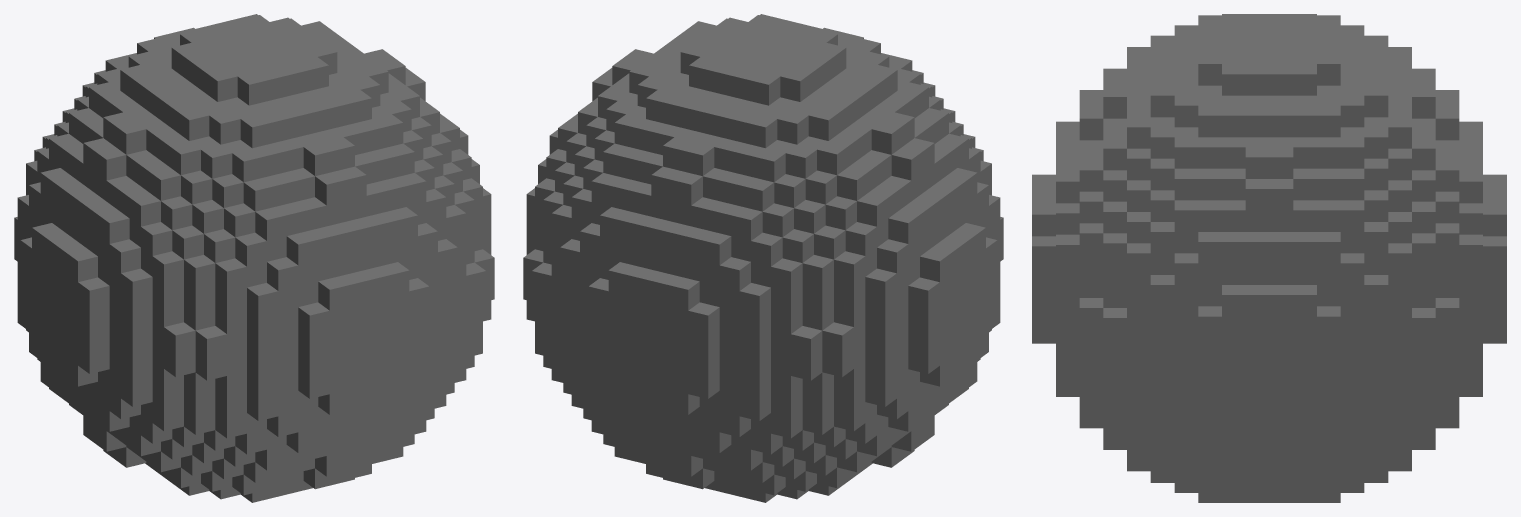
Rendered from Slammer_Top.obj.
3 views of the same model, side by side, from view 1: azimuth 30°, elevation 25°; view 2: azimuth 150°, elevation 25°; view 3: azimuth 270°, elevation 25° (orthographic). The views are drawn at different scales.
Bounding box in the file's own units: 2 × 1.9 × 2.
